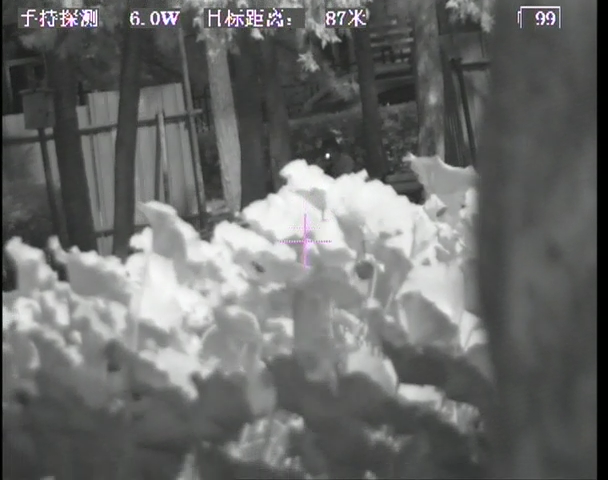my: (324, 150, 332, 161)
